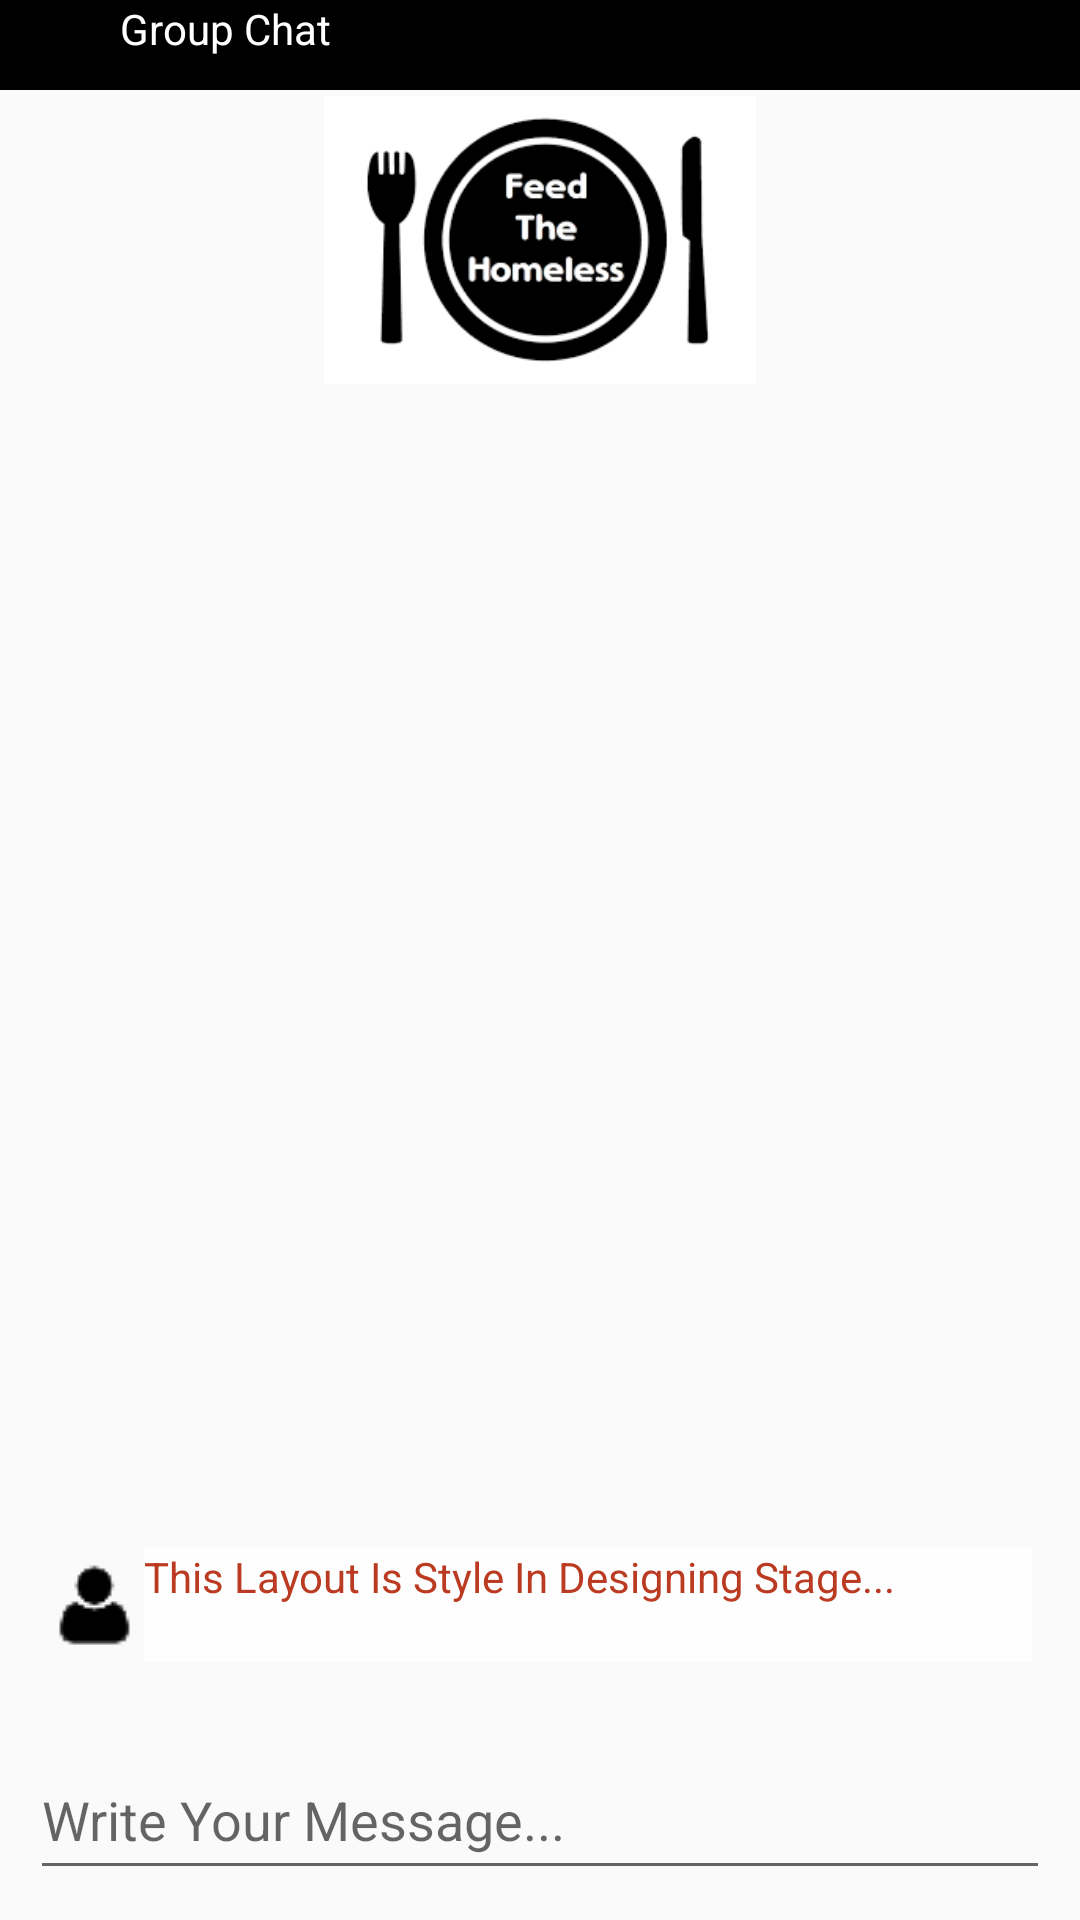

Icon click points for this 1080 × 1920 phone screenshot, format [x,y]:
login username: [94,1605]
